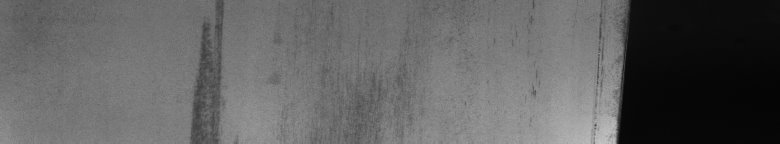ka: (185, 4, 228, 136)
